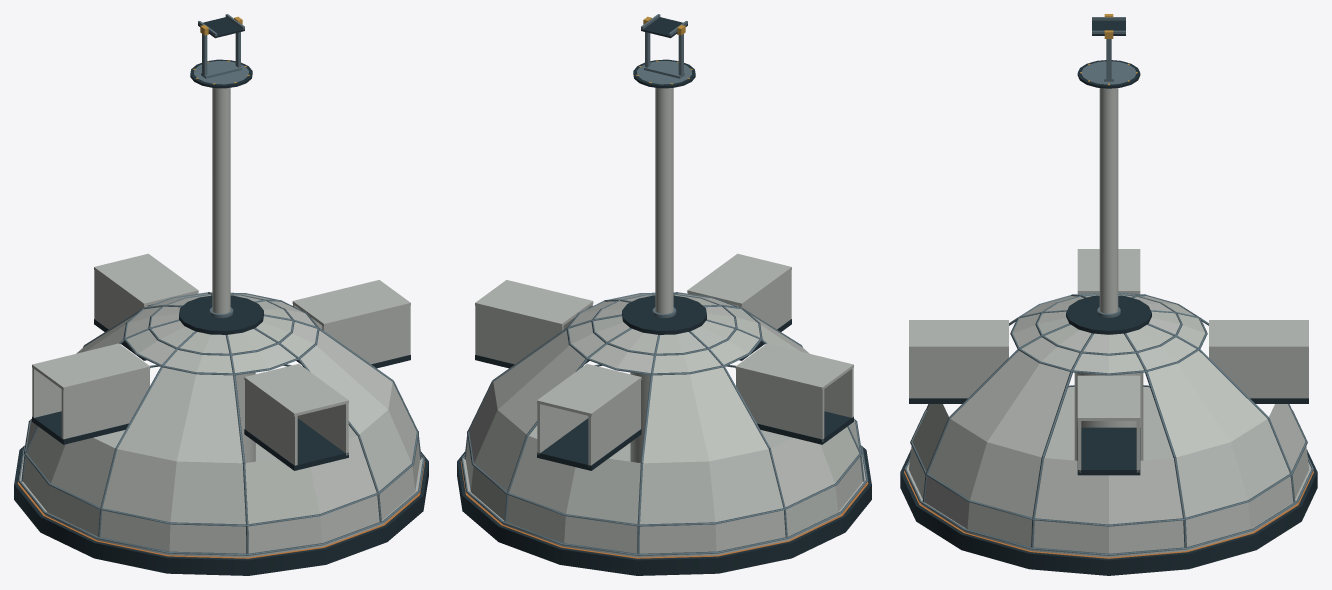
Rendered from power_d0_lod2.glb.
The picture shows the model from 3 angles, left to right: view 1: azimuth 30°, elevation 25°; view 2: azimuth 150°, elevation 25°; view 3: azimuth 270°, elevation 25°; orthographic projection.
Parts seen in each view (by area): view 1: BODY; view 2: BODY; view 3: BODY.
Boxes of the visible parts, x1,y1,x2,y2 form: BODY: (14, 14, 428, 575); BODY: (457, 14, 871, 575); BODY: (900, 14, 1317, 575).
Bounding box in the file's own units: 29.2 × 35.85 × 29.2.
